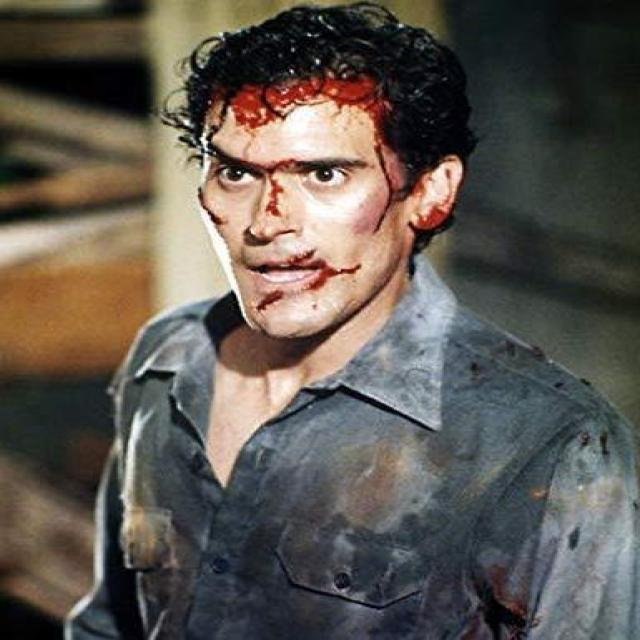flood: (205, 57, 420, 346)
